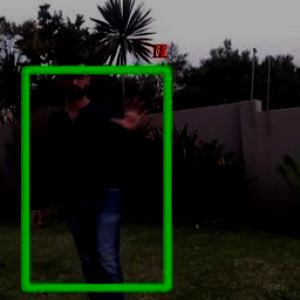follow_hand: (108, 91, 151, 135)
